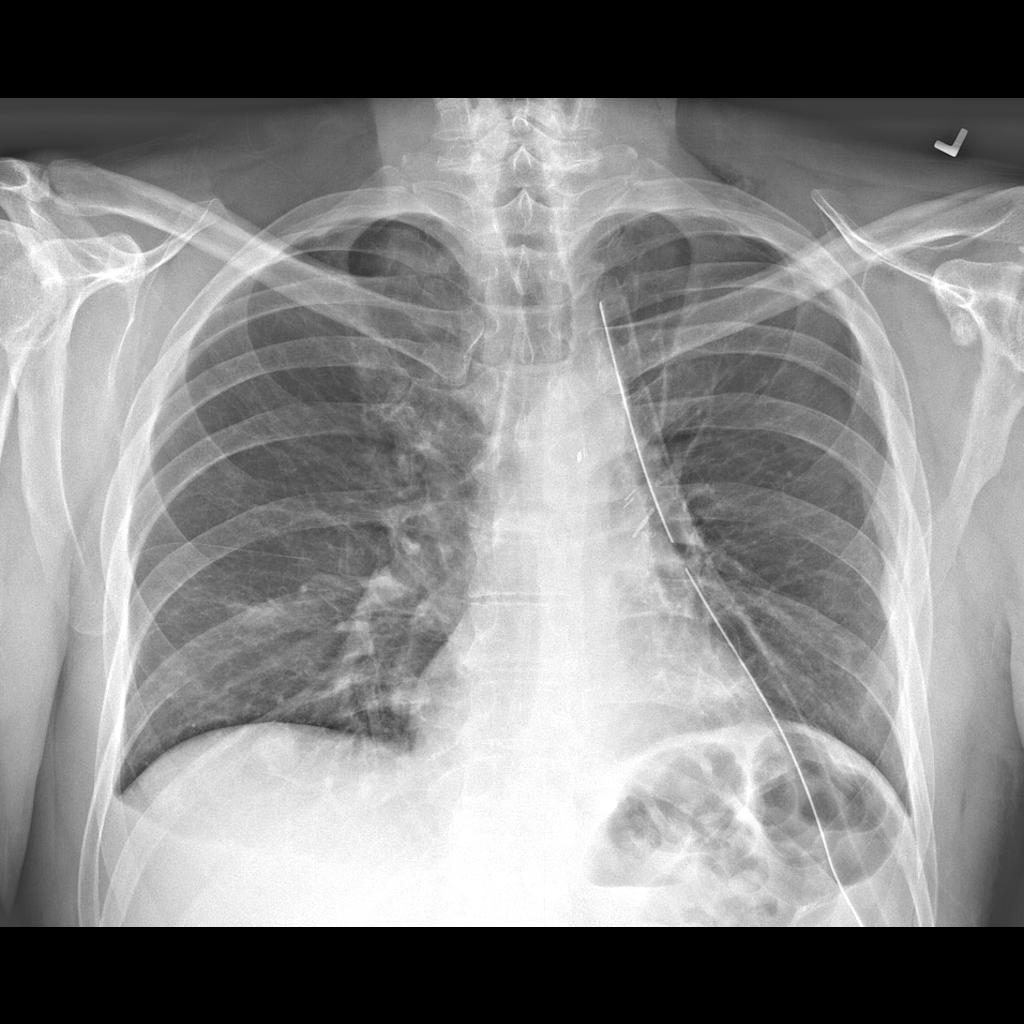Nodule: (379, 669, 436, 724), (233, 586, 283, 637)
